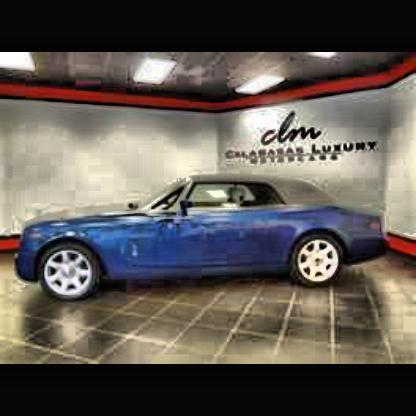Rolls-Royce Phantom Drophead Coupe Convertible 2012: (18, 176, 394, 303)
